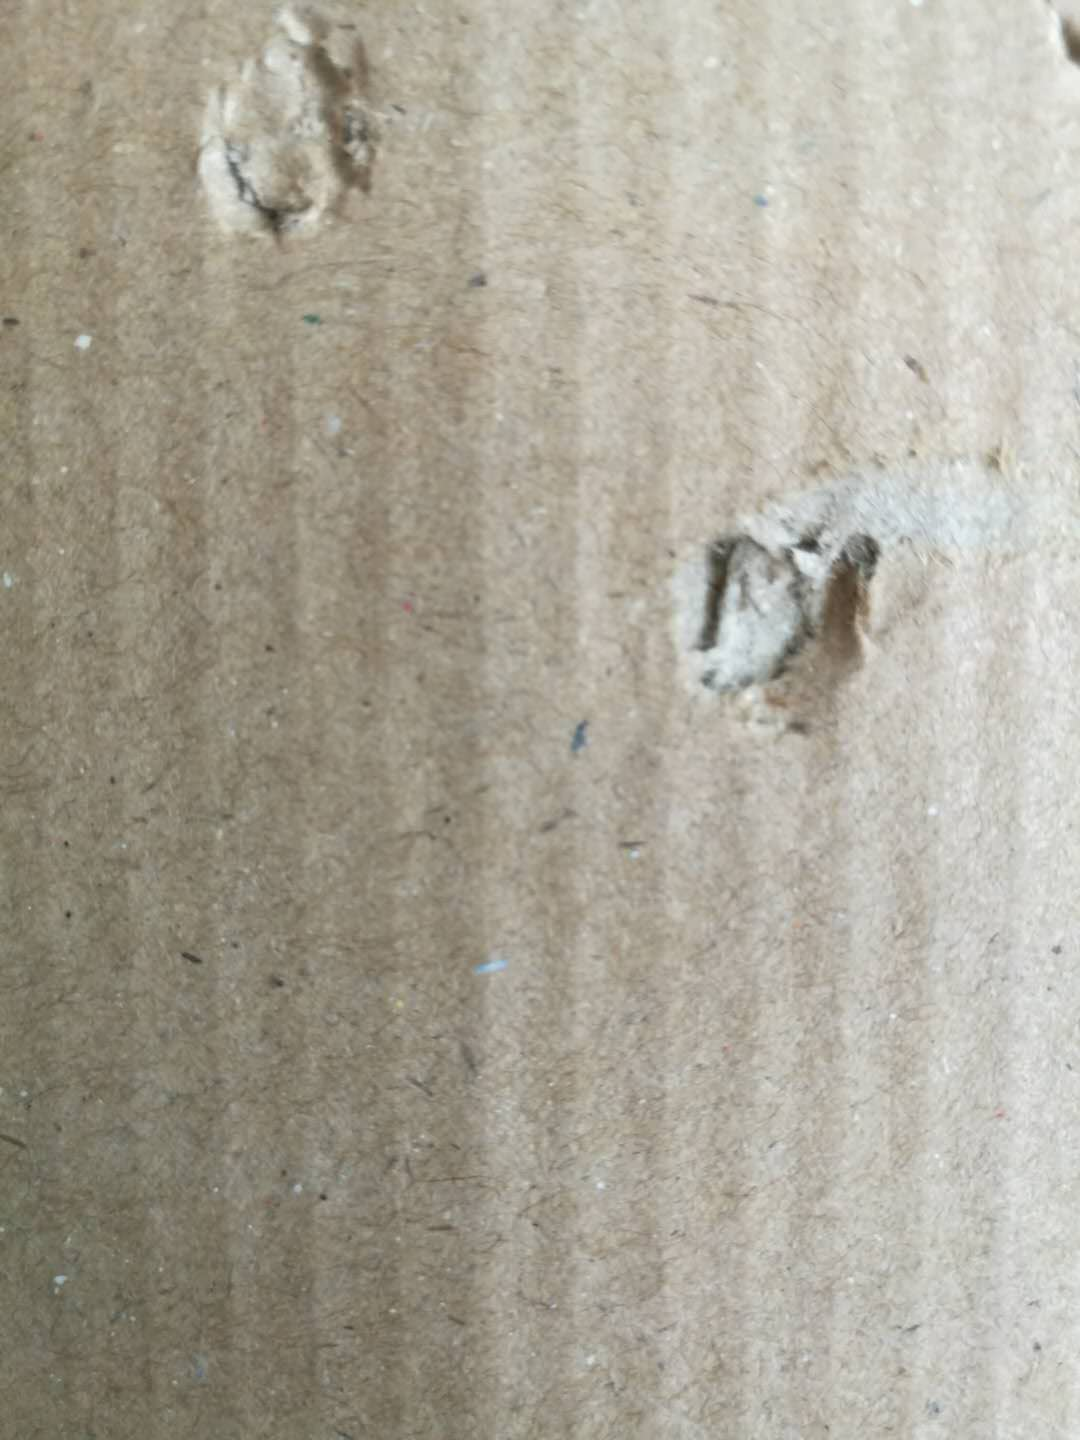defect: (646, 408, 1080, 761), (177, 1, 419, 278), (1022, 1, 1080, 73)
